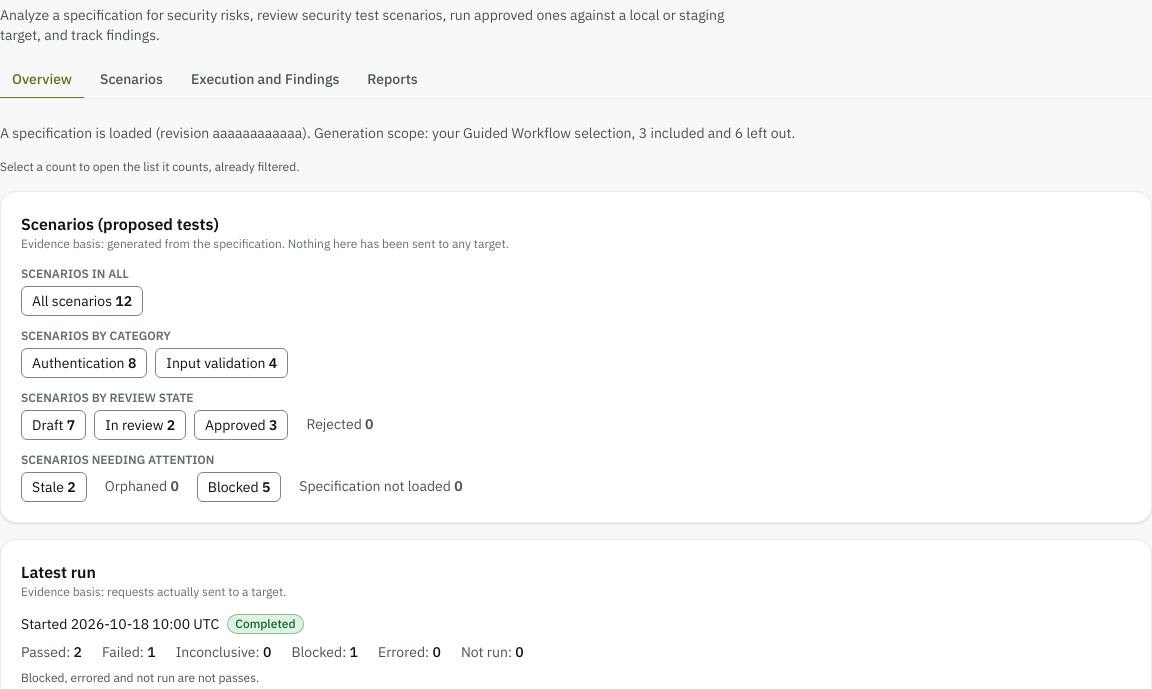
Test: opening the list behind a count (SC-012) › opens the scenarios of a category with the category's total
What coordinates should you click on to do the following:
click the button "Authentication 8"
I would click on:
 (84, 363)
Its box is [21,348,147,378].
(page scrolled)
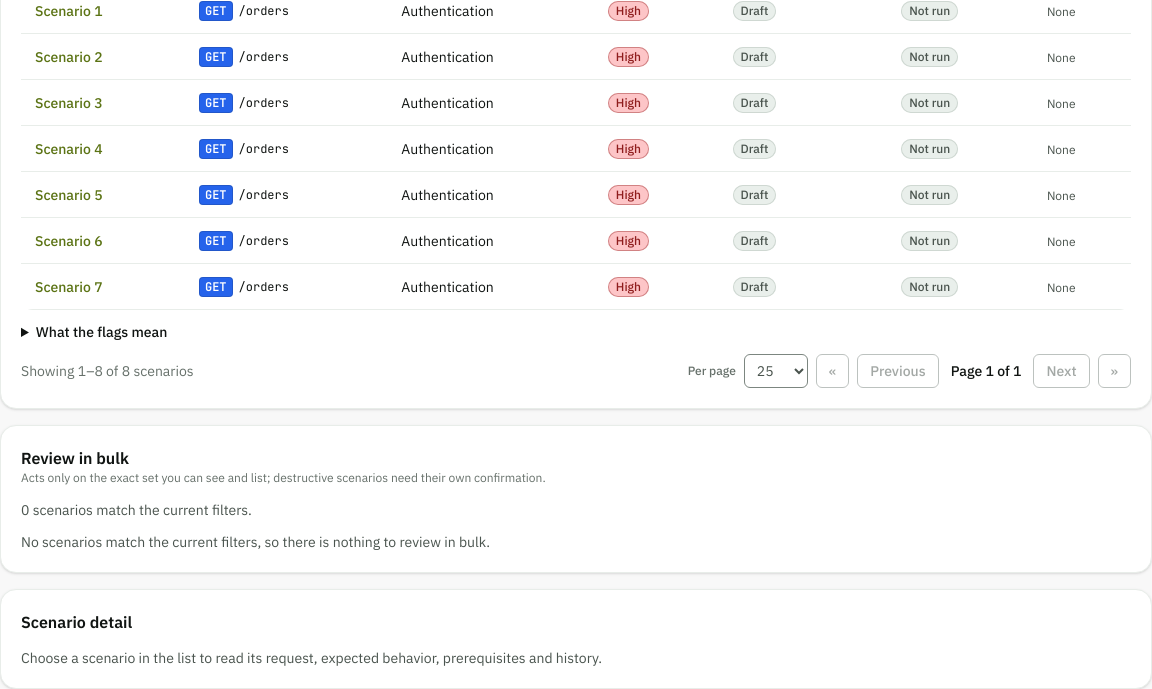
Now the text "Showing 1–8 of 8 scenarios" is shown, box [21,361,194,381]
